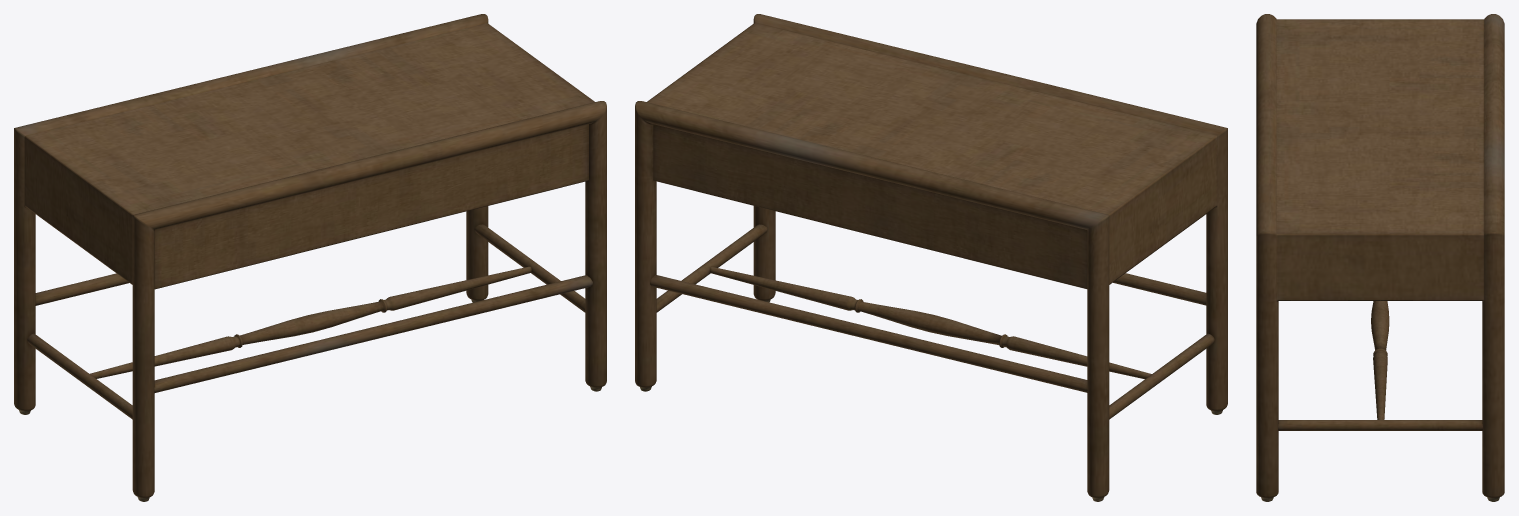
Rendered from small_wooden_table_01.glb.
3 views of the same model, side by side, from view 1: azimuth 30°, elevation 25°; view 2: azimuth 150°, elevation 25°; view 3: azimuth 270°, elevation 25° (orthographic). The views are drawn at different scales.
Parts seen in each view (by area): view 1: small_wooden_table_01; view 2: small_wooden_table_01; view 3: small_wooden_table_01.
Part boxes in pixels (box(x1,y1,x2,y2)): small_wooden_table_01: box(14, 14, 606, 501); small_wooden_table_01: box(635, 14, 1227, 501); small_wooden_table_01: box(1256, 14, 1504, 501).
Bounding box in the file's own units: 0.9162 × 0.5331 × 0.44.
Materials: 1 (1 with a texture image).
